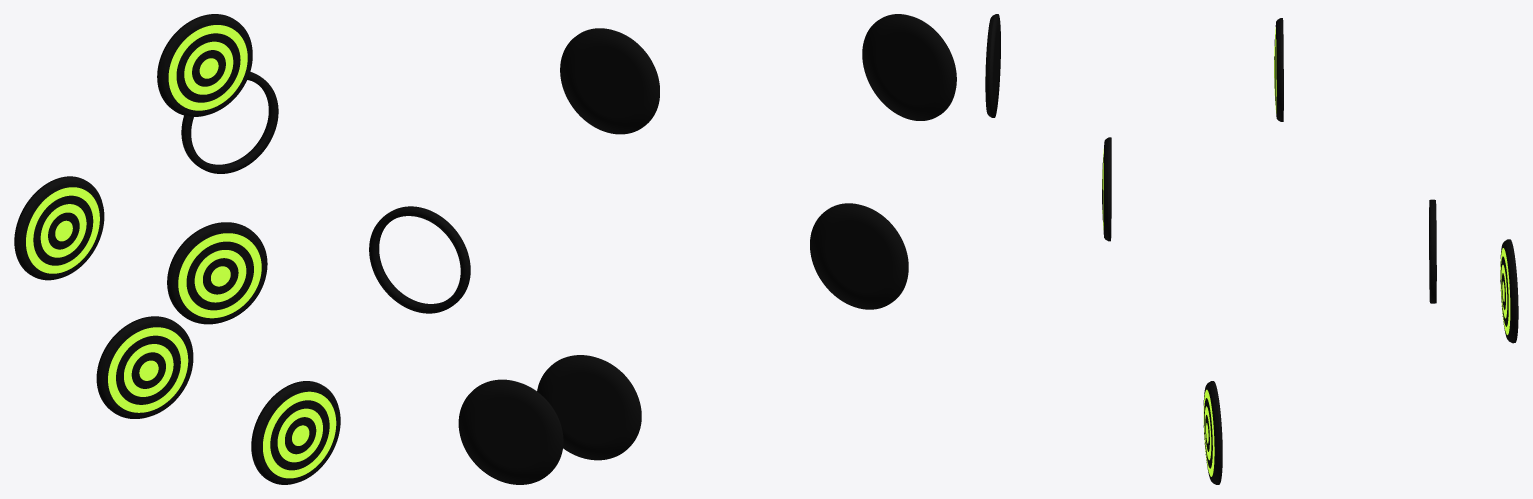
The picture shows the model from 3 angles, left to right: view 1: azimuth 30°, elevation 25°; view 2: azimuth 150°, elevation 25°; view 3: azimuth 270°, elevation 25°; orthographic projection. The views are drawn at different scales.
Visible parts, largest first — view 1: mato_1, mato_4, mato_2, mato_5, mato_6, suwaku_3; view 2: mato_5, mato_2, mato_4, mato_6, mato_1, suwaku_3; view 3: mato_6, mato_5, mato_1, mato_4, mato_2, suwaku_3.
Boxes of the visible parts, x1=… form: mato_1: x1=167, y1=222, x2=267, y2=324; mato_4: x1=96, y1=316, x2=193, y2=418; mato_2: x1=157, y1=14, x2=252, y2=116; mato_5: x1=14, y1=176, x2=104, y2=280; mato_6: x1=251, y1=381, x2=340, y2=484; suwaku_3: x1=181, y1=72, x2=278, y2=173; mato_5: x1=458, y1=379, x2=563, y2=484; mato_2: x1=560, y1=28, x2=659, y2=134; mato_4: x1=810, y1=203, x2=908, y2=309; mato_6: x1=537, y1=355, x2=641, y2=460; mato_1: x1=862, y1=14, x2=956, y2=120; suwaku_3: x1=369, y1=206, x2=470, y2=313; mato_6: x1=1203, y1=381, x2=1222, y2=484; mato_5: x1=1500, y1=239, x2=1518, y2=343; mato_1: x1=985, y1=14, x2=1000, y2=117; mato_4: x1=1102, y1=137, x2=1111, y2=241; mato_2: x1=1274, y1=18, x2=1283, y2=121; suwaku_3: x1=1429, y1=199, x2=1436, y2=303.
Bounding box in the file's own units: 2.01 × 2.49 × 2.79.
